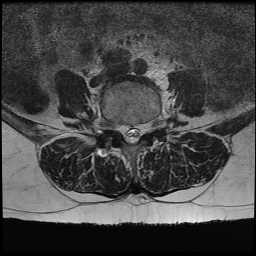CCS_normal: (129, 116, 136, 150)
LFS_normal: (144, 116, 152, 140)
LLS_normal: (136, 116, 143, 145)
RFS_normal: (113, 114, 120, 138)
RLS_normal: (120, 117, 128, 145)
